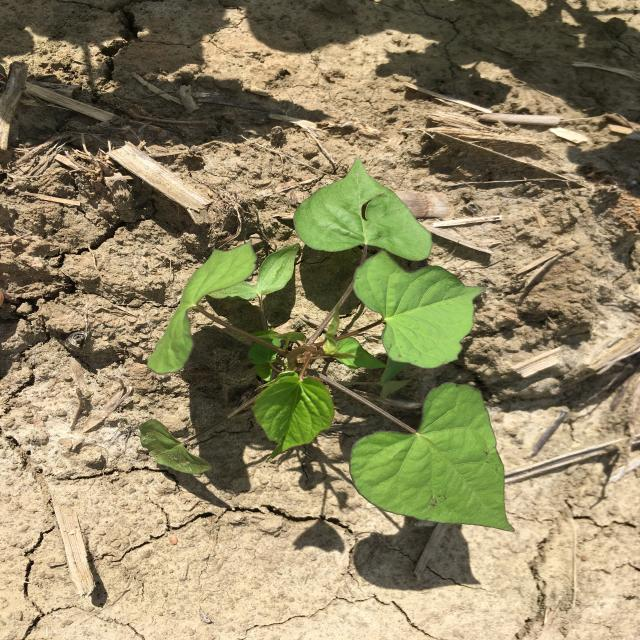MorningGlory: (138, 156, 516, 533)
